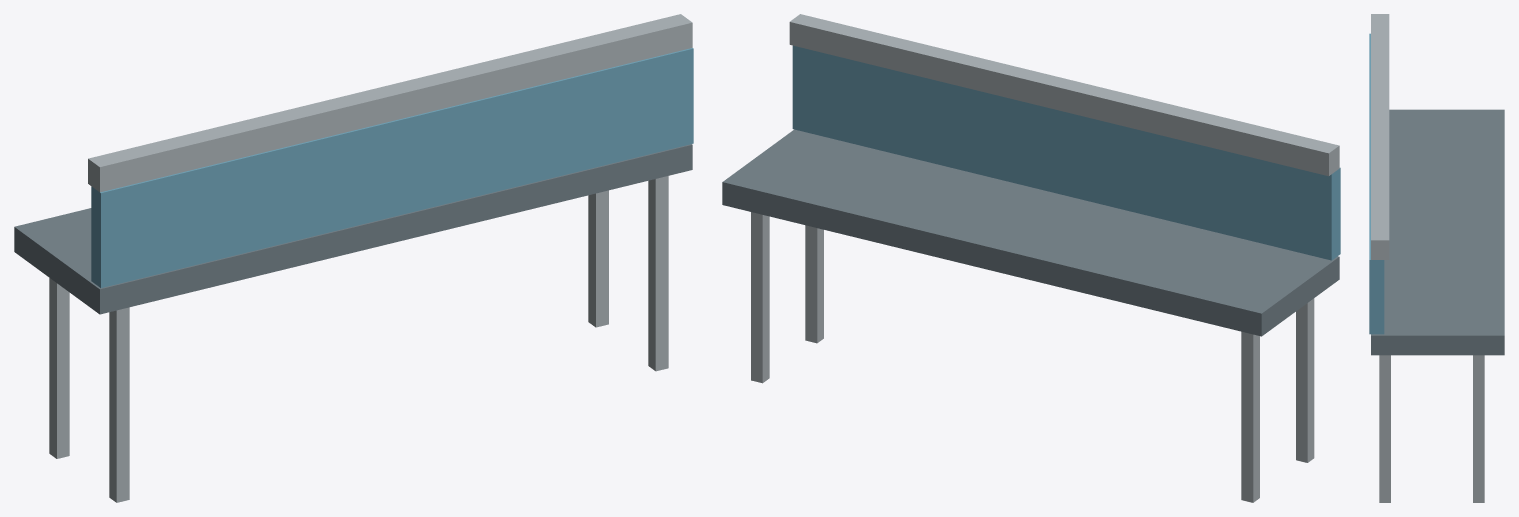
Rendered from PZ194_21_PreviewBench.glb.
The picture shows the model from 3 angles, left to right: view 1: azimuth 30°, elevation 25°; view 2: azimuth 150°, elevation 25°; view 3: azimuth 270°, elevation 25°; orthographic projection. The views are drawn at different scales.
Parts seen in each view (by area): view 1: PZ194_21_PreviewBench_bench_back, PZ194_21_PreviewBench_tool_shelf, PZ194_21_PreviewBench_worktop, PZ194_21_PreviewBench_bench_leg_0.12_0.68, PZ194_21_PreviewBench_bench_leg_3.03_0.68, PZ194_21_PreviewBench_bench_leg_0.12_0.12, PZ194_21_PreviewBench_bench_leg_3.03_0.12; view 2: PZ194_21_PreviewBench_worktop, PZ194_21_PreviewBench_bench_back, PZ194_21_PreviewBench_tool_shelf, PZ194_21_PreviewBench_bench_leg_0.12_0.12, PZ194_21_PreviewBench_bench_leg_3.03_0.12, PZ194_21_PreviewBench_bench_leg_0.12_0.68, PZ194_21_PreviewBench_bench_leg_3.03_0.68; view 3: PZ194_21_PreviewBench_worktop, PZ194_21_PreviewBench_tool_shelf, PZ194_21_PreviewBench_bench_leg_3.03_0.12, PZ194_21_PreviewBench_bench_leg_3.03_0.68, PZ194_21_PreviewBench_bench_back.
Boxes of the visible parts, <box> form: PZ194_21_PreviewBench_bench_back: <box>91,48,693,287</box>; PZ194_21_PreviewBench_tool_shelf: <box>88,14,692,192</box>; PZ194_21_PreviewBench_worktop: <box>14,144,692,314</box>; PZ194_21_PreviewBench_bench_leg_0.12_0.68: <box>109,307,129,502</box>; PZ194_21_PreviewBench_bench_leg_3.03_0.68: <box>648,176,668,371</box>; PZ194_21_PreviewBench_bench_leg_0.12_0.12: <box>49,278,69,458</box>; PZ194_21_PreviewBench_bench_leg_3.03_0.12: <box>588,190,608,327</box>; PZ194_21_PreviewBench_worktop: <box>722,129,1339,336</box>; PZ194_21_PreviewBench_bench_back: <box>792,45,1340,260</box>; PZ194_21_PreviewBench_tool_shelf: <box>789,14,1339,176</box>; PZ194_21_PreviewBench_bench_leg_0.12_0.12: <box>1241,331,1259,502</box>; PZ194_21_PreviewBench_bench_leg_3.03_0.12: <box>751,212,769,383</box>; PZ194_21_PreviewBench_bench_leg_0.12_0.68: <box>1296,298,1314,462</box>; PZ194_21_PreviewBench_bench_leg_3.03_0.68: <box>805,225,823,343</box>; PZ194_21_PreviewBench_worktop: <box>1371,109,1504,355</box>; PZ194_21_PreviewBench_tool_shelf: <box>1371,14,1389,259</box>; PZ194_21_PreviewBench_bench_leg_3.03_0.12: <box>1473,355,1484,502</box>; PZ194_21_PreviewBench_bench_leg_3.03_0.68: <box>1379,355,1390,502</box>; PZ194_21_PreviewBench_bench_back: <box>1369,33,1384,334</box>.
Size of the model in its own units: 3.2 by 1.78 by 0.81.
